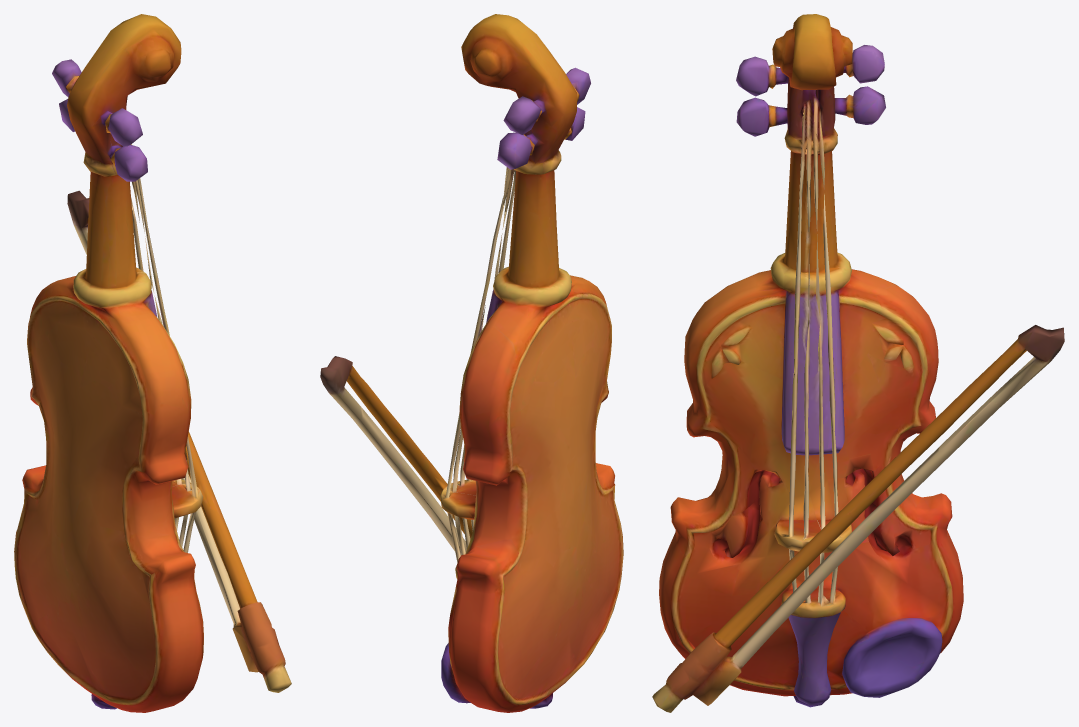
The model's file is violin.glb.
3 views of the same model, side by side, from view 1: azimuth 30°, elevation 25°; view 2: azimuth 150°, elevation 25°; view 3: azimuth 270°, elevation 25° (orthographic). The views are drawn at different scales.
Parts seen in each view (by area): view 1: tripo_node_21bf401b-4fb9-4272-b050-0b38237fc40a; view 2: tripo_node_21bf401b-4fb9-4272-b050-0b38237fc40a; view 3: tripo_node_21bf401b-4fb9-4272-b050-0b38237fc40a.
Part boxes in pixels (box(x1,y1,x2,y2)): tripo_node_21bf401b-4fb9-4272-b050-0b38237fc40a: box(14, 14, 291, 712); tripo_node_21bf401b-4fb9-4272-b050-0b38237fc40a: box(320, 14, 623, 712); tripo_node_21bf401b-4fb9-4272-b050-0b38237fc40a: box(652, 14, 1064, 712).
Size of the model in its own units: 0.1306 by 0.55 by 0.2925.
Materials: 1 (1 with a texture image).
